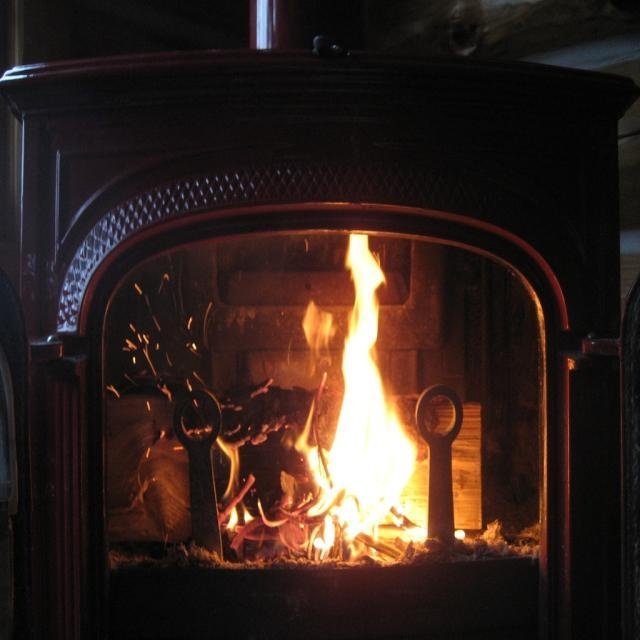Fire: (214, 232, 427, 568)
